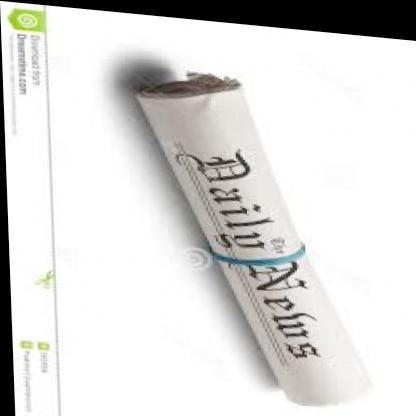Paper: (81, 48, 389, 416)
